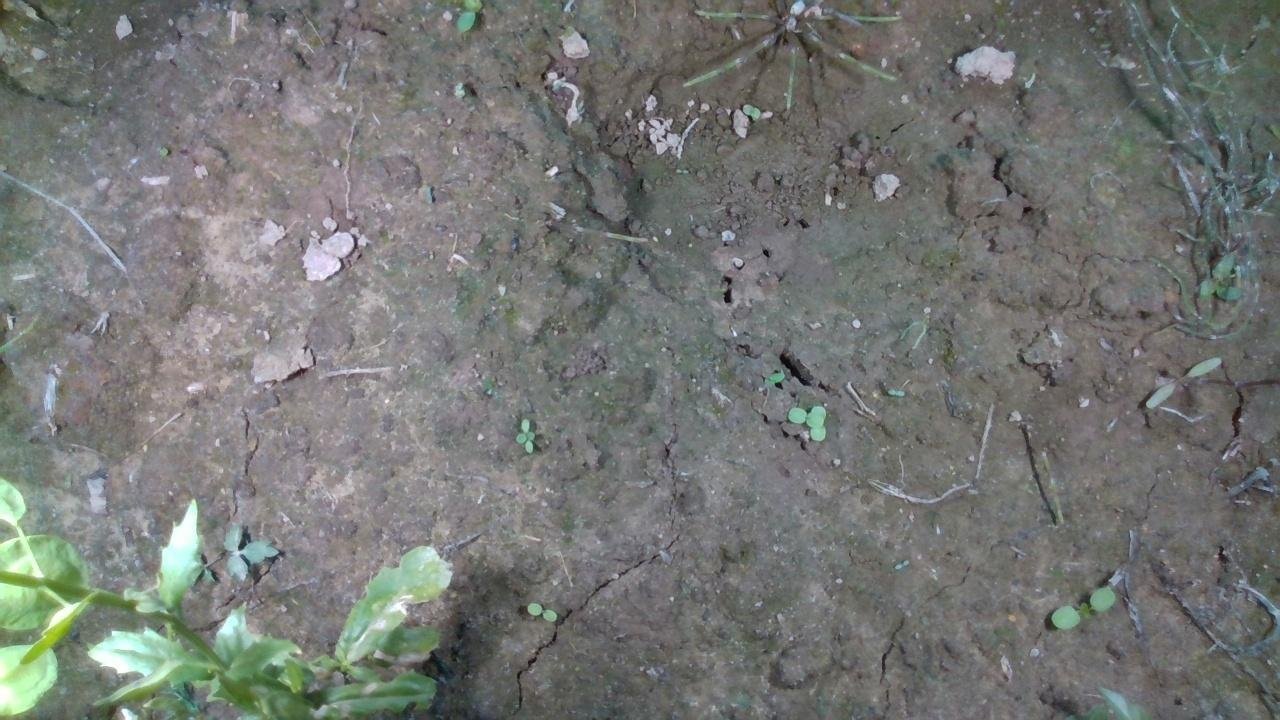weed: (1049, 586, 1117, 630), (507, 413, 549, 456), (523, 599, 559, 622)
